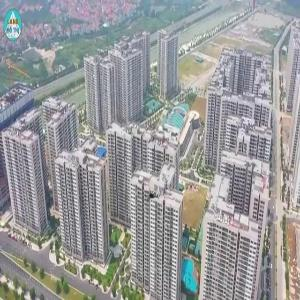drone: (138, 182, 168, 212)
